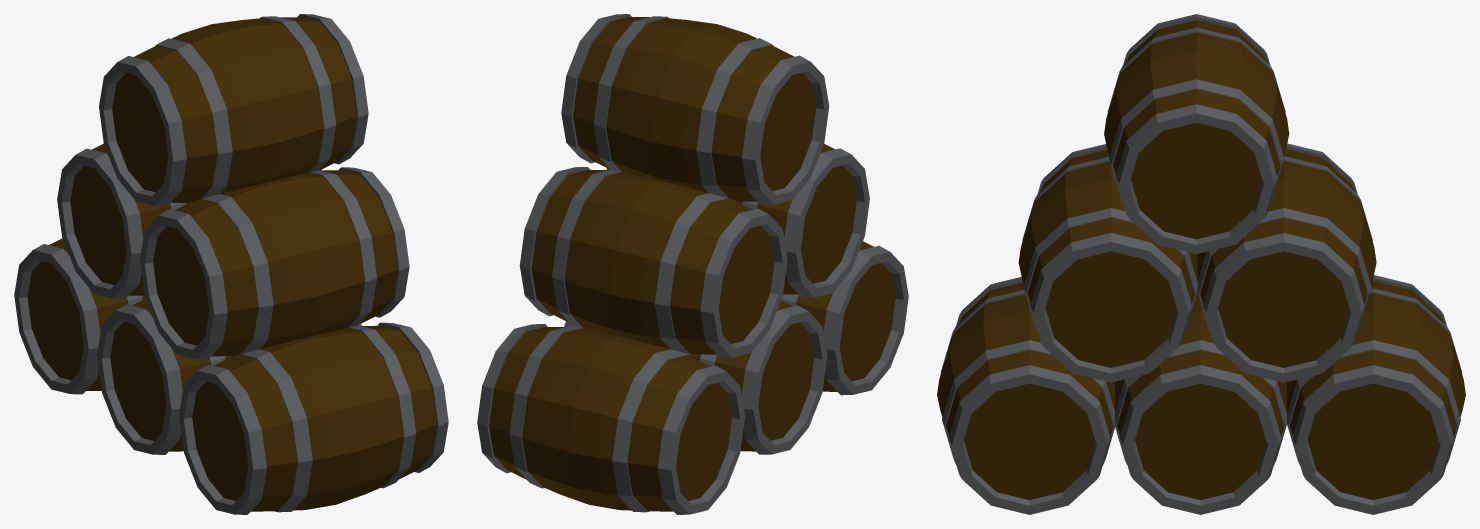
Rendered from barrel_stack.fbx.
3 views of the same model, side by side, from view 1: azimuth 30°, elevation 25°; view 2: azimuth 150°, elevation 25°; view 3: azimuth 270°, elevation 25° (orthographic). The views are drawn at different scales.
Parts seen in each view (by area): view 1: Cylinder.010, Cylinder.029, Cylinder.024, Cylinder.022, Cylinder.027, Cylinder.012, Cylinder.007, Cylinder.002, Cylinder.017, Cylinder.014, Cylinder.025, Cylinder.020 (+9 smaller); view 2: Cylinder.009, Cylinder.029, Cylinder.015, Cylinder.017, Cylinder.007, Cylinder.027, Cylinder.002, Cylinder.012, Cylinder.022, Cylinder.005, Cylinder.025, Cylinder.019 (+9 smaller); view 3: Cylinder.023, Cylinder.008, Cylinder.011, Cylinder.028, Cylinder.001, Cylinder.016, Cylinder.029, Cylinder.009, Cylinder.015, Cylinder.024, Cylinder.010, Cylinder (+8 smaller).
Part boxes in pixels (x1,y1,x2,y2): Cylinder.010: (214, 325, 436, 511); Cylinder.029: (134, 17, 356, 202); Cylinder.024: (175, 170, 397, 356); Cylinder.022: (140, 209, 227, 359); Cylinder.027: (99, 56, 186, 206); Cylinder.012: (179, 364, 266, 514); Cylinder.007: (14, 244, 100, 394); Cylinder.002: (97, 304, 182, 454); Cylinder.017: (57, 148, 143, 298); Cylinder.014: (239, 349, 312, 512); Cylinder.025: (155, 38, 232, 199); Cylinder.020: (201, 194, 273, 354); Cylinder.009: (489, 327, 710, 511); Cylinder.029: (573, 17, 794, 201); Cylinder.015: (531, 170, 752, 354); Cylinder.017: (700, 208, 787, 357); Cylinder.007: (657, 365, 744, 514); Cylinder.027: (742, 55, 829, 204); Cylinder.002: (741, 305, 827, 454); Cylinder.012: (823, 246, 908, 395); Cylinder.022: (784, 148, 869, 297); Cylinder.005: (612, 349, 688, 512); Cylinder.025: (696, 38, 773, 198); Cylinder.019: (654, 193, 727, 354); Cylinder.023: (1030, 233, 1192, 382); Cylinder.008: (1292, 365, 1454, 514); Cylinder.011: (948, 365, 1110, 514); Cylinder.028: (1115, 104, 1277, 253); Cylinder.001: (1119, 365, 1281, 514); Cylinder.016: (1203, 233, 1364, 382); Cylinder.029: (1104, 20, 1289, 175); Cylinder.009: (1287, 281, 1465, 436); Cylinder.015: (1197, 149, 1376, 303); Cylinder.024: (1018, 150, 1197, 303); Cylinder.010: (937, 282, 1114, 436); Cylinder: (1115, 294, 1286, 436).
Size of the model in its own units: 307 by 617 by 690.
